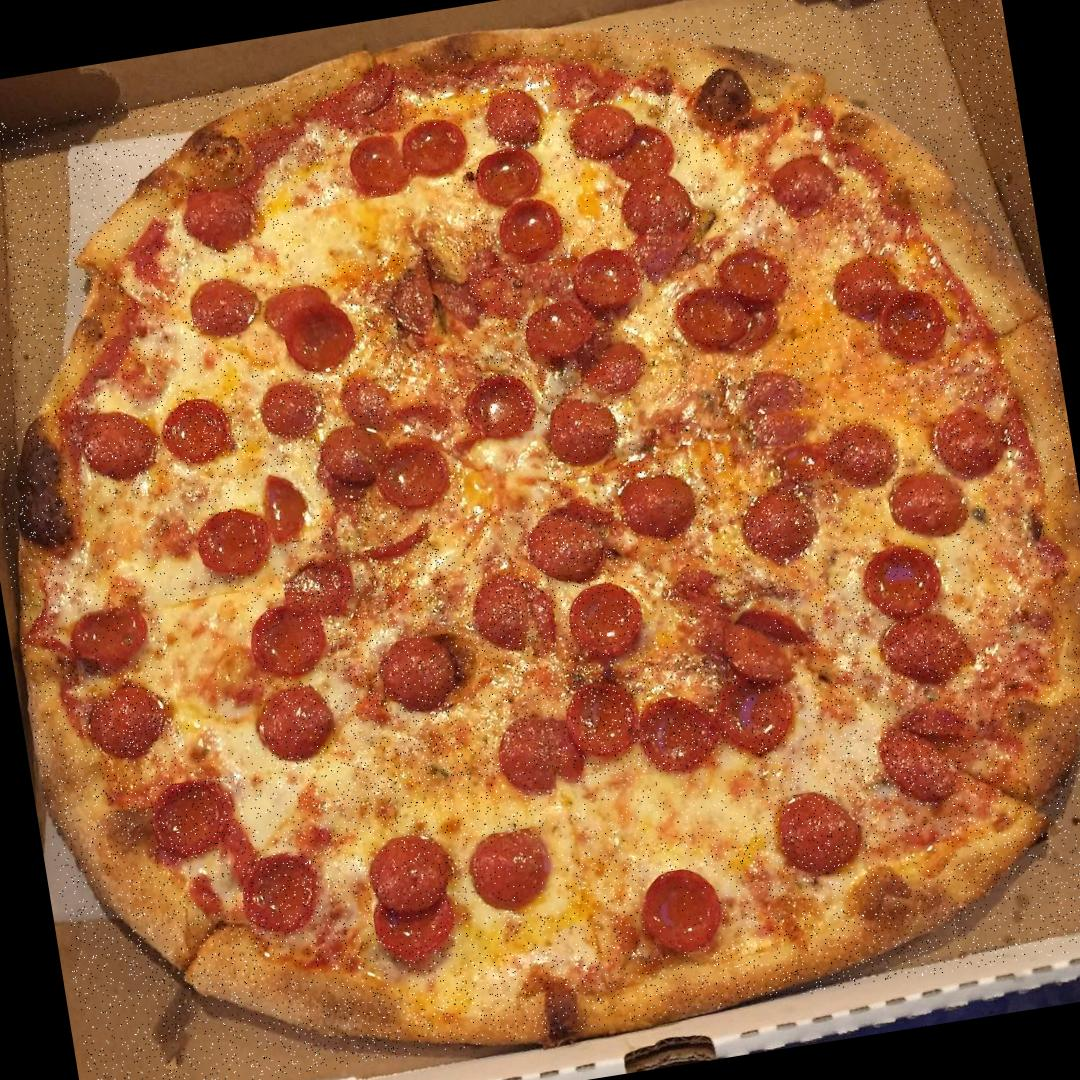Cheese: (538, 758, 769, 856), (162, 592, 269, 778), (817, 564, 887, 770), (349, 719, 476, 828), (298, 186, 465, 264), (632, 379, 766, 463), (646, 556, 722, 695), (90, 489, 201, 583), (374, 504, 458, 602), (454, 429, 552, 511)
Pepperoni: (572, 94, 694, 246), (827, 243, 955, 366), (664, 246, 794, 361), (519, 248, 644, 364), (320, 413, 458, 518), (362, 830, 462, 964), (478, 146, 564, 264), (346, 120, 468, 193), (466, 825, 558, 919), (878, 707, 972, 799), (776, 786, 864, 879), (264, 284, 355, 373), (636, 865, 725, 955), (875, 610, 974, 688), (238, 849, 328, 934), (733, 481, 820, 567), (472, 573, 556, 662), (494, 712, 583, 796), (724, 602, 816, 681), (149, 776, 236, 858), (391, 272, 480, 350), (522, 507, 612, 584), (566, 576, 652, 656), (87, 682, 174, 760), (638, 695, 720, 774), (376, 633, 459, 710), (246, 602, 329, 678), (863, 541, 946, 617), (932, 403, 1012, 480), (564, 686, 644, 762), (886, 468, 964, 544), (714, 680, 794, 754), (258, 684, 335, 760), (612, 474, 704, 534), (68, 604, 154, 668), (820, 419, 896, 489), (82, 404, 153, 478), (159, 394, 234, 464), (752, 408, 826, 476), (464, 372, 536, 439), (280, 553, 354, 618), (196, 507, 267, 574), (187, 187, 258, 252), (188, 276, 261, 336), (770, 153, 841, 212), (550, 396, 613, 462), (258, 469, 314, 541), (488, 83, 548, 146), (664, 566, 734, 617), (262, 381, 322, 440), (744, 366, 812, 414), (638, 232, 705, 280), (468, 266, 521, 320)
Pizza: (0, 0, 1080, 1080)
